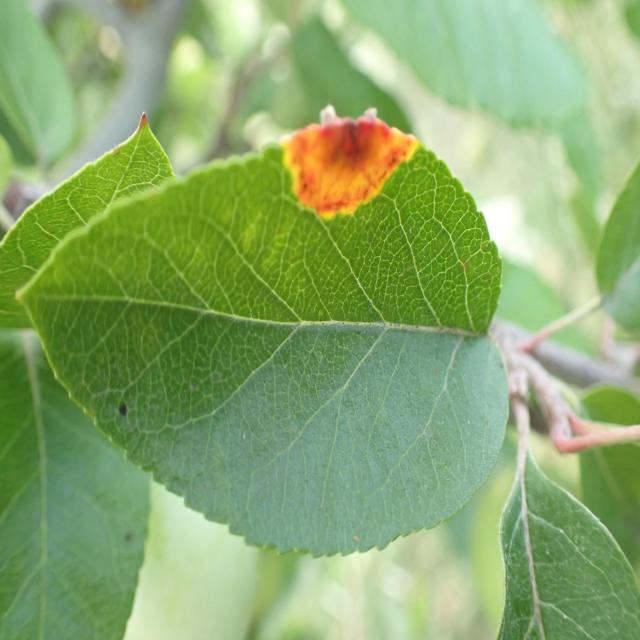Rust: (270, 100, 433, 228)
